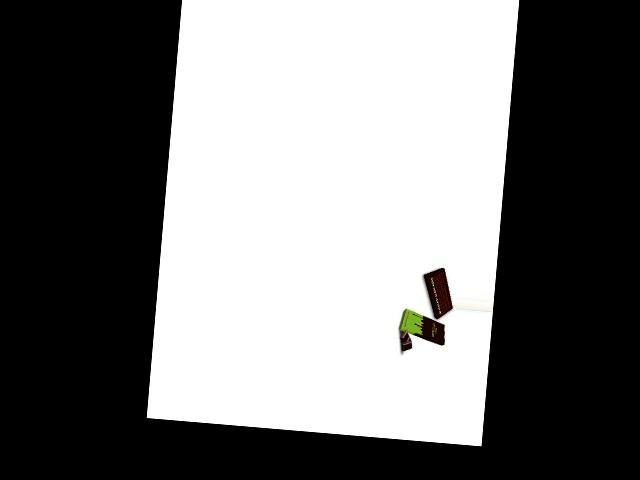chocolate: (396, 310, 447, 342)
